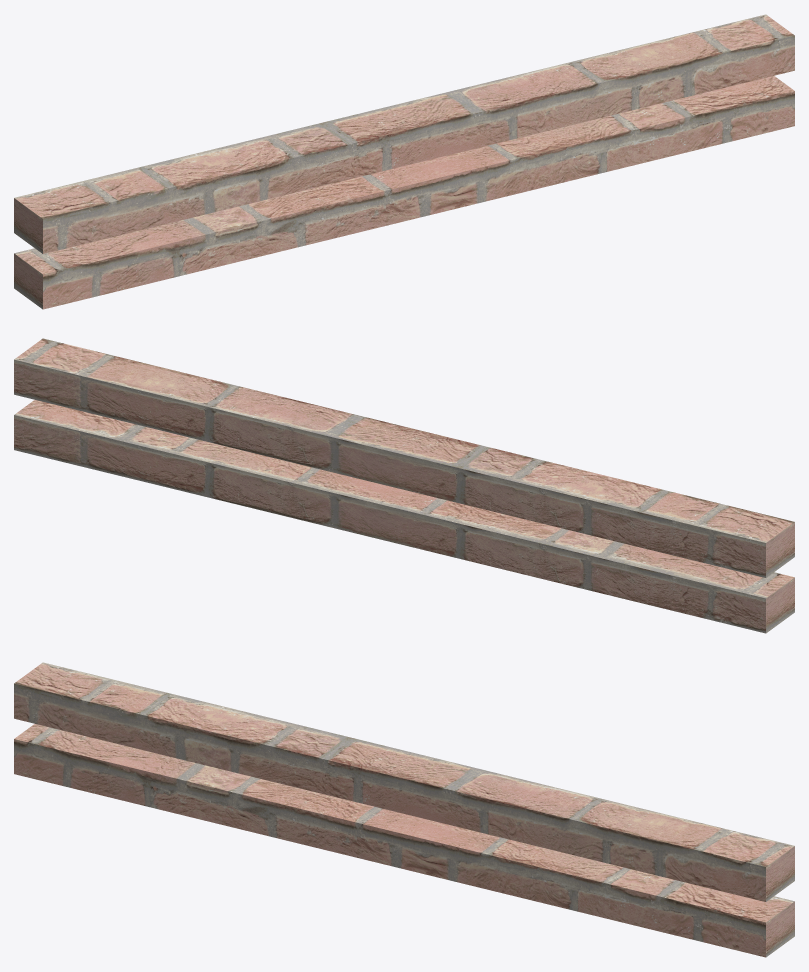
File: Beam.fbx
3 views of the same model, one above another, from view 1: azimuth 30°, elevation 25°; view 2: azimuth 150°, elevation 25°; view 3: azimuth 330°, elevation 25° (orthographic).
Parts seen in each view (by area): view 1: Beam; view 2: Beam; view 3: Beam.
Part boxes in pixels (bbox=[...]): Beam: bbox=[14, 14, 794, 309]; Beam: bbox=[14, 338, 794, 633]; Beam: bbox=[14, 662, 794, 957].
Size of the model in its own units: 300 by 34.51 by 20.
Materials: 1 (1 with a texture image).
